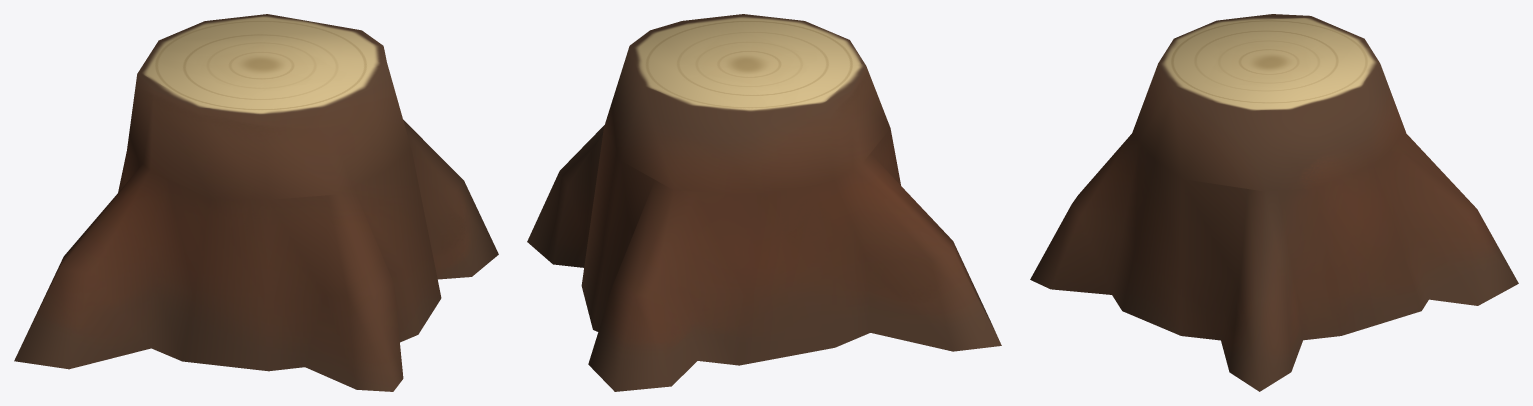
Rendered from TreeStump.fbx.
3 renders of one model, left to right at view 1: azimuth 30°, elevation 25°; view 2: azimuth 150°, elevation 25°; view 3: azimuth 270°, elevation 25°, orthographic. The views are drawn at different scales.
Visible parts, largest first — view 1: Cylinder.002; view 2: Cylinder.002; view 3: Cylinder.002.
Part boxes in pixels (x1,y1,x2,y2): Cylinder.002: (14, 14, 498, 391); Cylinder.002: (527, 14, 1001, 391); Cylinder.002: (1030, 14, 1518, 391).
Bounding box in the file's own units: 361 × 172 × 339.
Materials: 1 (1 with a texture image).
